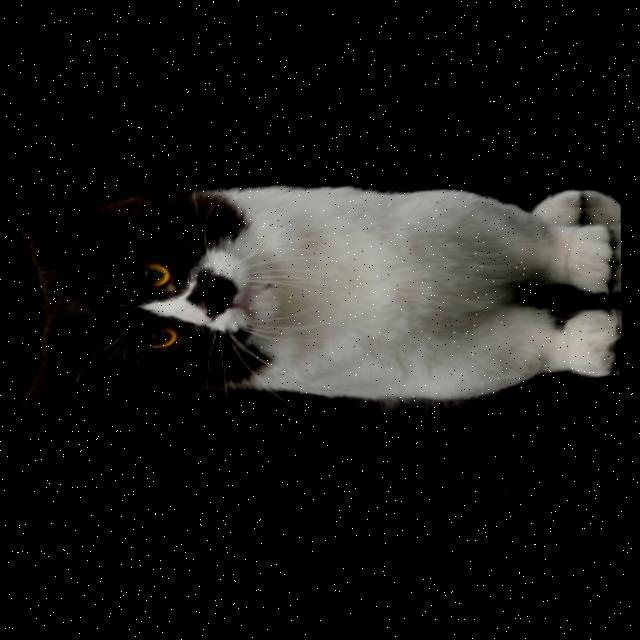Munchkin: (0, 140, 633, 640)
